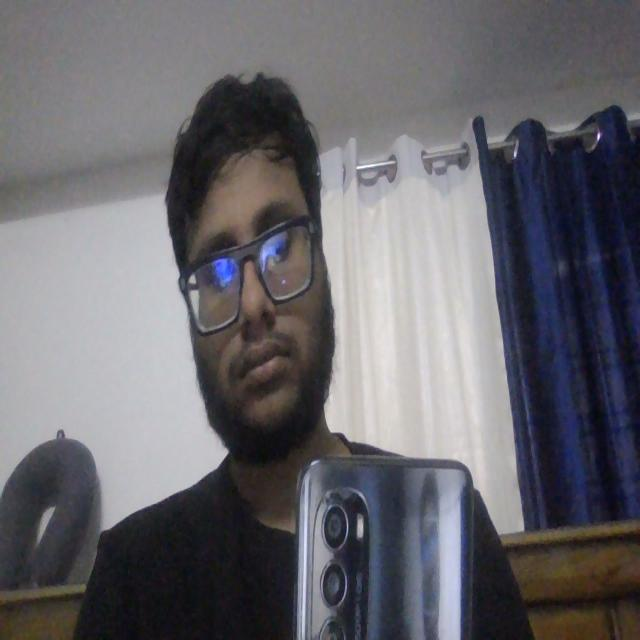phone: (296, 450, 473, 640)
